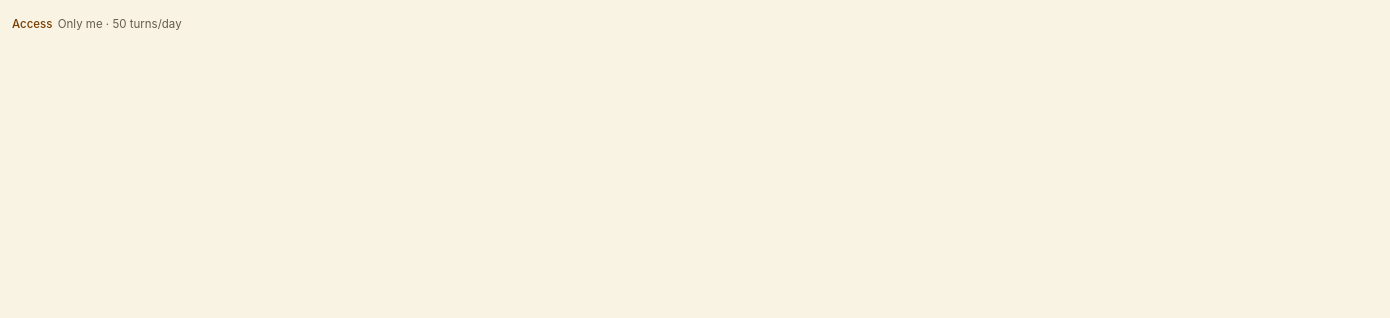
Test: AgentAccessPanel › the usage section shows turns today and this month, and cost where known
Click the button "Access Only me · 50 turns/day": (97, 24) [12,16,182,32]
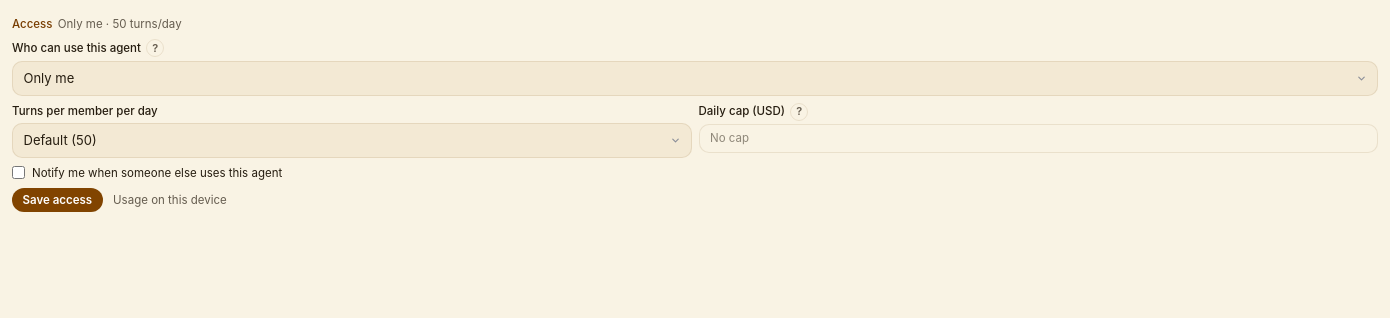
Click the button "Usage on this device": (170, 200) [113,192,227,208]
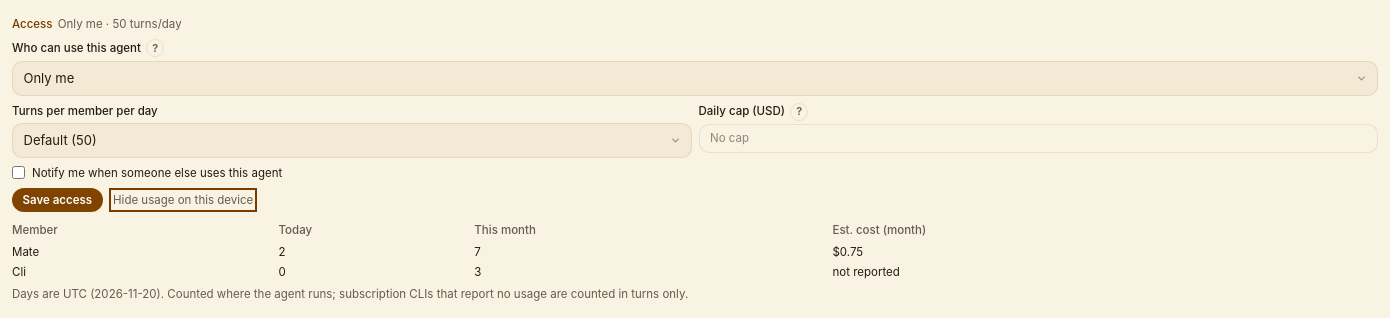
Expected: the text "Mate" shows "2", [278,245,286,259]
Expected: the text "Mate" shows "7", [474,245,481,259]
Expected: the text "Mate" shows "$0.75", [832,245,863,259]
